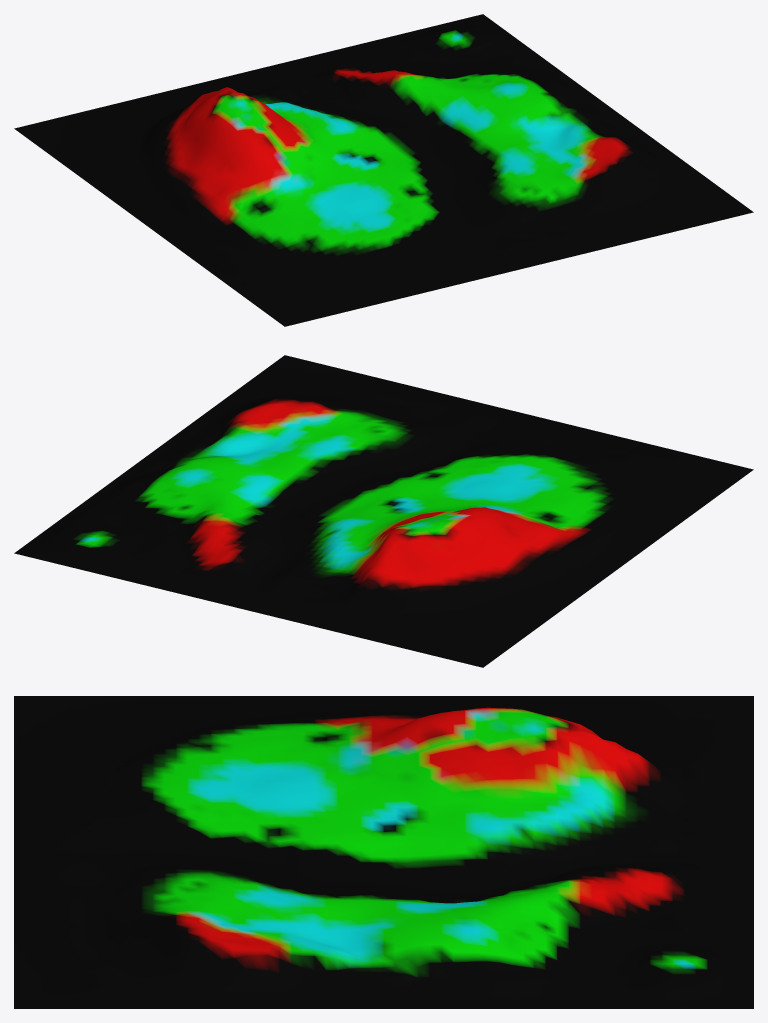
Rendered from terrain.glb.
3 views of the same model, one above another, from view 1: azimuth 30°, elevation 25°; view 2: azimuth 150°, elevation 25°; view 3: azimuth 270°, elevation 25° (orthographic). The views are drawn at different scales.
Parts seen in each view (by area): view 1: Plane; view 2: Plane; view 3: Plane.
Boxes of the visible parts, x1,y1,x2,y2 form: Plane: [14, 14, 753, 326]; Plane: [14, 355, 753, 667]; Plane: [14, 696, 753, 1008].
Bounding box in the file's own units: 300 × 29.99 × 300.
